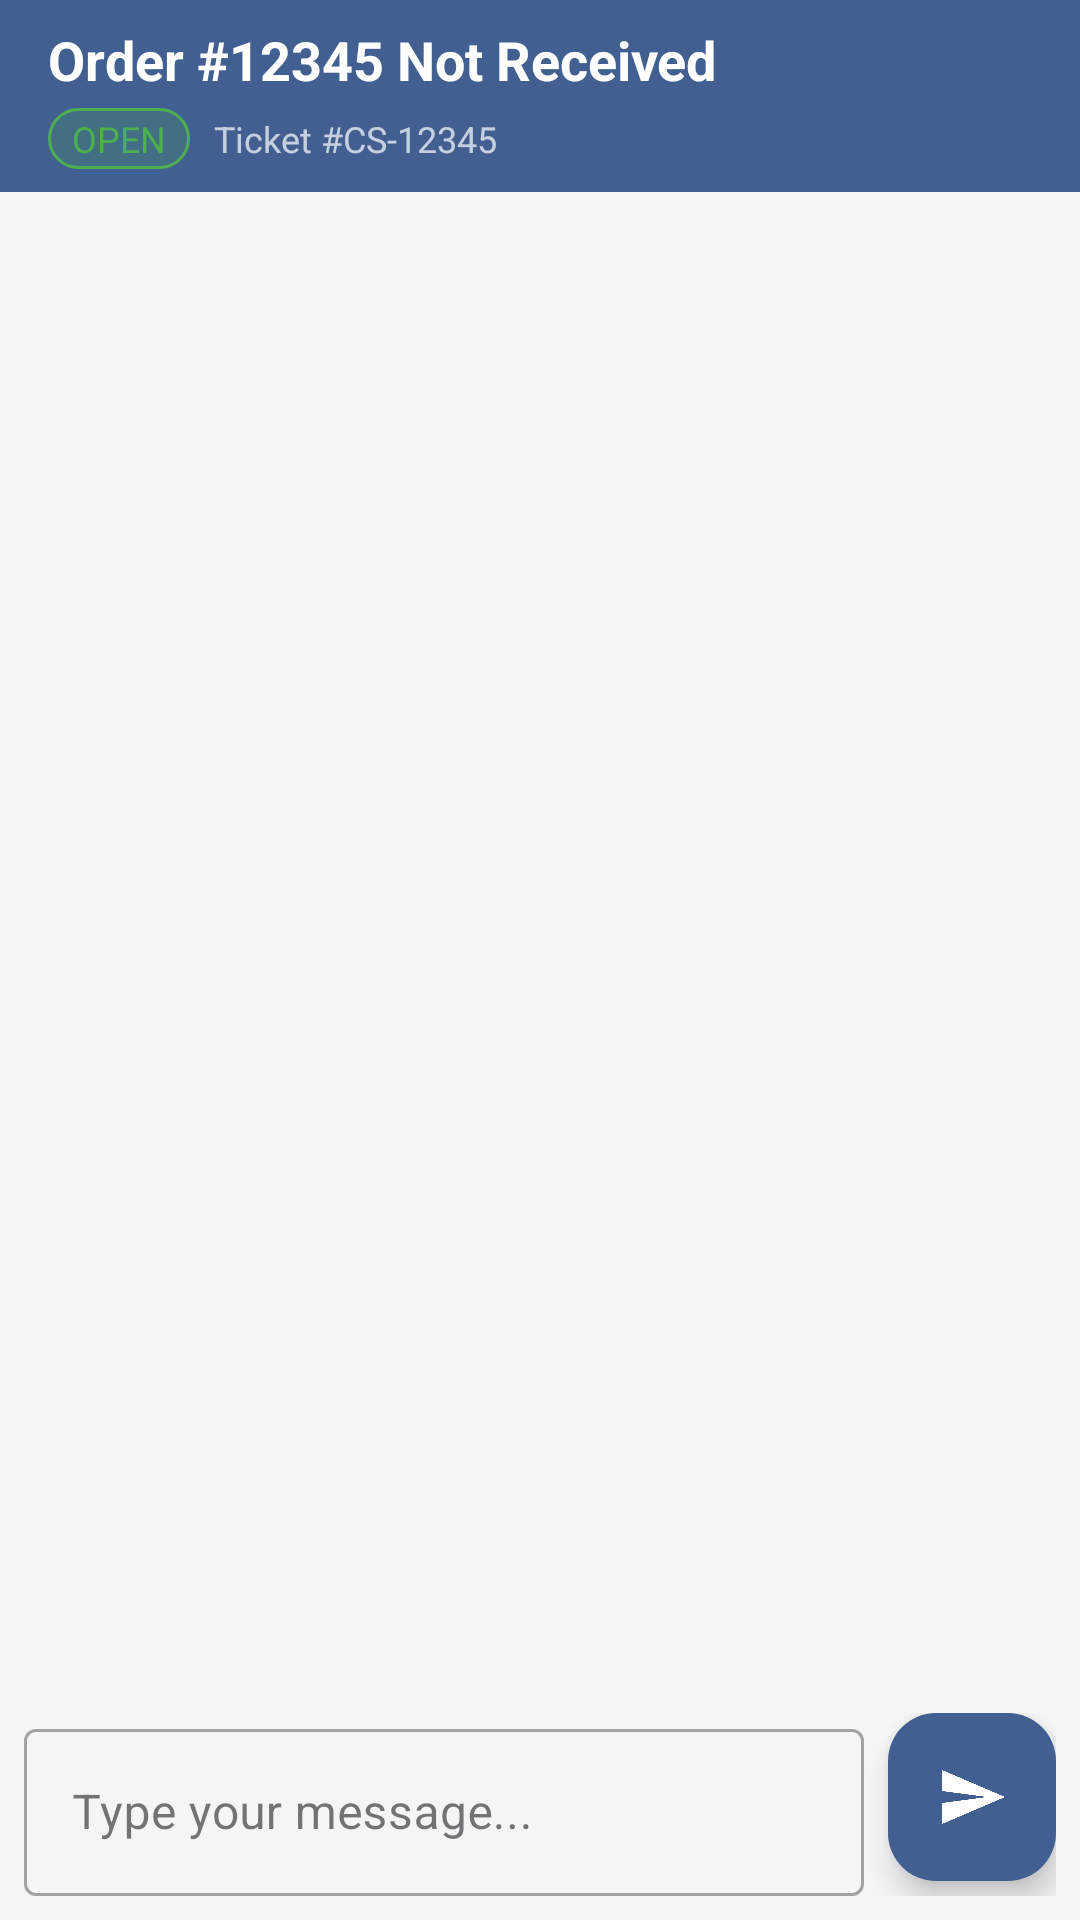

Named icons in this screenshot (1080x1920) and their centers, (x,y):
send: (972,1797)
